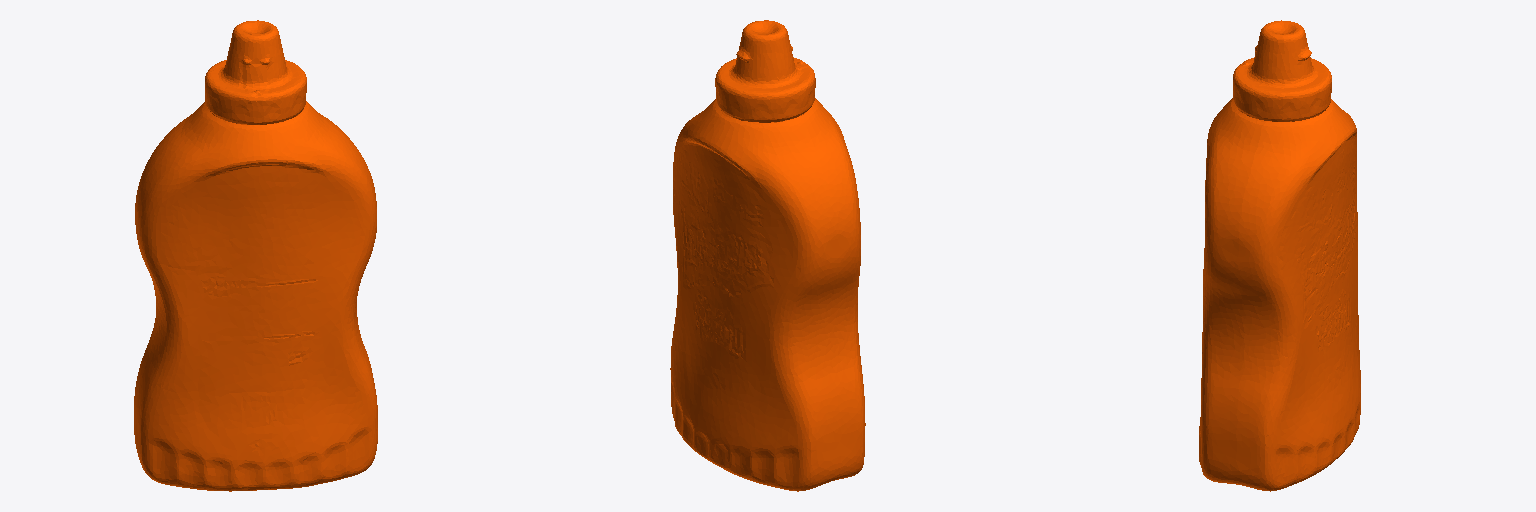
URDF robot description (006_mustard_bottle):
<?xml version="1.0" ?>
<robot name="006_mustard_bottle">
   <material name="obj_color">
      <color rgba="1.0 0.423529411765 0.0392156862745 1.0"/>
   </material>
   <link name="top">
      <inertial>
         <origin rpy="0.0008414057451031317 0.002851792310275455 0.003272644342248939" xyz="-0.000934201272773048 -0.001636096154030684 -0.009342245837649104"/>
         <mass value="1.199596767470637"/>
         <inertia ixx="0.002915569846662158" ixy="0.0001508917671339833" ixz="-9.895560303986294e-06" iyy="0.003208744491861197" iyz="-1.402293858045747e-05" izz="0.0008415280591041695"/>
      </inertial>
      <visual>
         <origin rpy="0 0 0" xyz="0 0 0"/>
         <geometry>
            <mesh filename="top_watertight_tiny.stl" scale="1 1 1"/>
         </geometry>
         <material name="obj_color"/>
      </visual>
      <collision>
         <origin rpy="0 0 0" xyz="0 0 0"/>
         <geometry>
            <mesh filename="top_watertight_tiny.obj" scale="1 1 1"/>
         </geometry>
      </collision>
   </link>
   <link name="bottom">
      <inertial>
         <origin rpy="1.633333333199431e-08 1.633333333199431e-08 1.633333333362855e-08" xyz="0.3464080000000008 0.3464080000000008 0.3464080000000008"/>
         <mass value="0.0009800000000000017"/>
         <inertia ixx="1.633333333253906e-08" ixy="5.447480642029219e-19" ixz="5.447480642029219e-19" iyy="1.633333333253906e-08" iyz="5.447480642029219e-19" izz="1.633333333253906e-08"/>
      </inertial>
      <visual>
         <origin rpy="0 0 0" xyz="0 0 0"/>
         <geometry>
            <mesh filename="bottom_watertight_tiny.stl" scale="1 1 1"/>
         </geometry>
         <material name="obj_color"/>
      </visual>
   </link>
   <joint name="rotation" type="revolute">
      <origin xyz="0 0 0"/>
      <axis xyz="0 0 -1"/>
      <parent link="bottom"/>
      <child link="top"/>
      <dynamics damping="1.0" friction="1.0"/>
      <limit effort="0.1" velocity="0.1" lower="0" upper="0.001"/>
   </joint>
</robot>

--- Facts derived from the render (not from the file) ---
3 views of the same robot in one strip: view 1: azimuth 30°, elevation 25°; view 2: azimuth 150°, elevation 25°; view 3: azimuth 270°, elevation 25° (orthographic).
Robot: 006_mustard_bottle — 2 links, 1 joints (1 revolute); root link bottom; default pose: all joints at 0.
Links seen in each view (by area): view 1: top; view 2: top; view 3: top.
Boxes of the visible links, <box> form: top: <box>134,20,377,491</box>; top: <box>670,20,865,491</box>; top: <box>1199,20,1360,491</box>.
Bounding box of the posed robot: 0.0972 × 0.0666 × 0.1913 m (x, y, z).
Meshes: 2 distinct files referenced, 1 mesh visuals loaded (1 binary STL); not drawn: 1 (reference not matched to a file when rendering).
